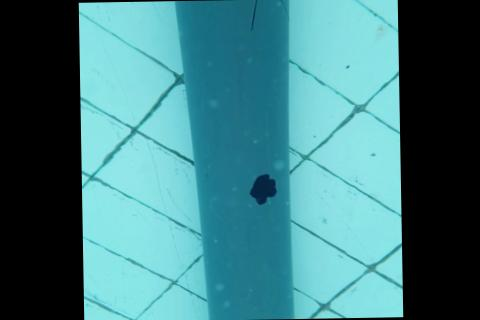kebocoran: (245, 172, 278, 207)
keretakan: (239, 0, 281, 29)
